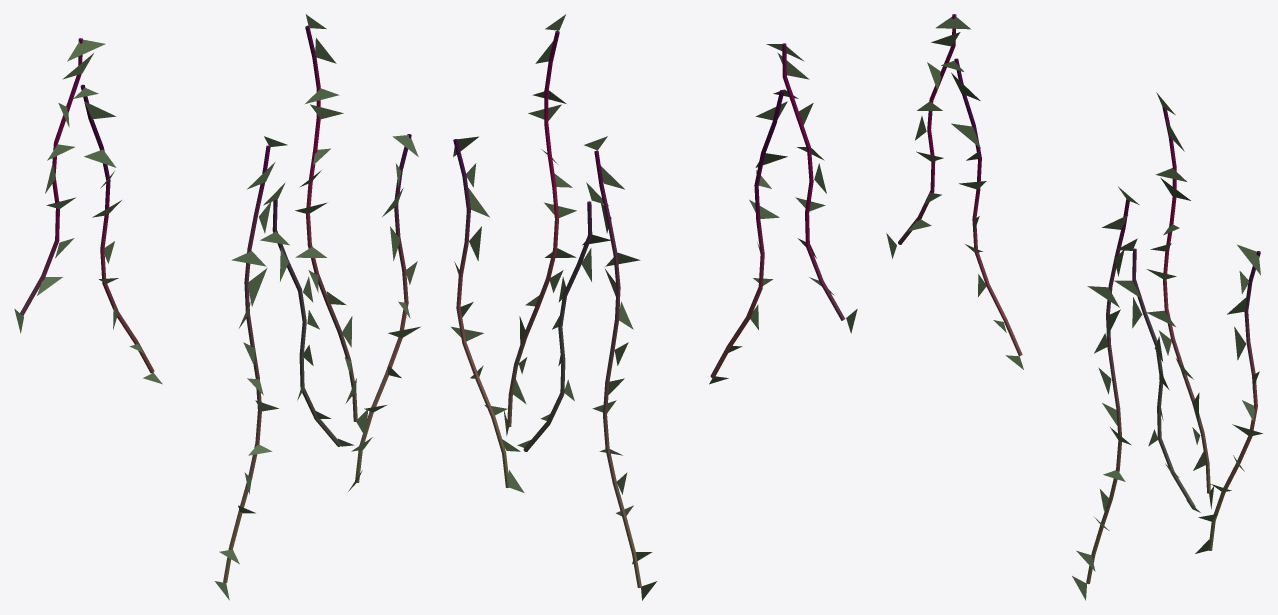
The model's file is ivy_sheet_b.glb.
3 renders of one model, left to right at view 1: azimuth 30°, elevation 25°; view 2: azimuth 150°, elevation 25°; view 3: azimuth 330°, elevation 25°, orthographic. The views are drawn at different scales.
Visible parts, largest first — view 1: ivy, ivy_stem_2, ivy_stem_0, ivy_stem_3, ivy_stem_5, ivy_stem_4, ivy_stem_1; view 2: ivy, ivy_stem_2, ivy_stem_0, ivy_stem_3, ivy_stem_5, ivy_stem_1, ivy_stem_4; view 3: ivy, ivy_stem_2, ivy_stem_0, ivy_stem_3, ivy_stem_5, ivy_stem_4, ivy_stem_1.
Boxes of the visible parts, x1=… form: ivy: x1=14, y1=14, x2=420, y2=600; ivy_stem_2: x1=223, y1=145, x2=270, y2=582; ivy_stem_0: x1=305, y1=25, x2=357, y2=421; ivy_stem_3: x1=355, y1=134, x2=411, y2=482; ivy_stem_5: x1=80, y1=84, x2=154, y2=373; ivy_stem_4: x1=272, y1=199, x2=340, y2=446; ivy_stem_1: x1=20, y1=38, x2=82, y2=315; ivy: x1=451, y1=14, x2=857, y2=600; ivy_stem_2: x1=594, y1=150, x2=641, y2=587; ivy_stem_0: x1=507, y1=30, x2=559, y2=427; ivy_stem_3: x1=453, y1=139, x2=509, y2=487; ivy_stem_5: x1=710, y1=90, x2=784, y2=378; ivy_stem_1: x1=782, y1=43, x2=845, y2=320; ivy_stem_4: x1=523, y1=201, x2=592, y2=451; ivy: x1=886, y1=16, x2=1262, y2=600; ivy_stem_2: x1=1086, y1=199, x2=1129, y2=584; ivy_stem_0: x1=1162, y1=107, x2=1210, y2=493; ivy_stem_3: x1=1208, y1=251, x2=1260, y2=550; ivy_stem_5: x1=954, y1=58, x2=1022, y2=356; ivy_stem_4: x1=1132, y1=248, x2=1195, y2=507; ivy_stem_1: x1=898, y1=14, x2=956, y2=244.
Bounding box in the file's own units: 2.36 × 3.29 × 0.0454.
